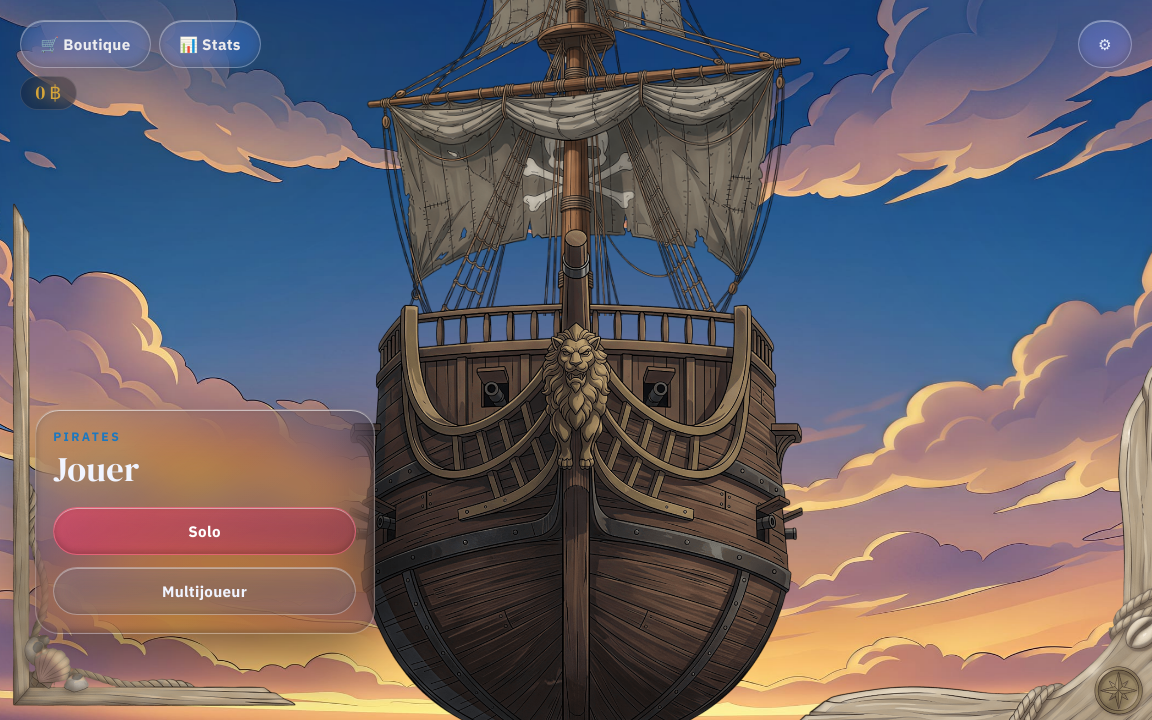
DashboardPage — engrenage (touches / déconnexion) › ouvre l'ecran des touches via le menu engrenage
Click the button named "Options" at (1105, 44), box left=1078, top=20, right=1132, bottom=68
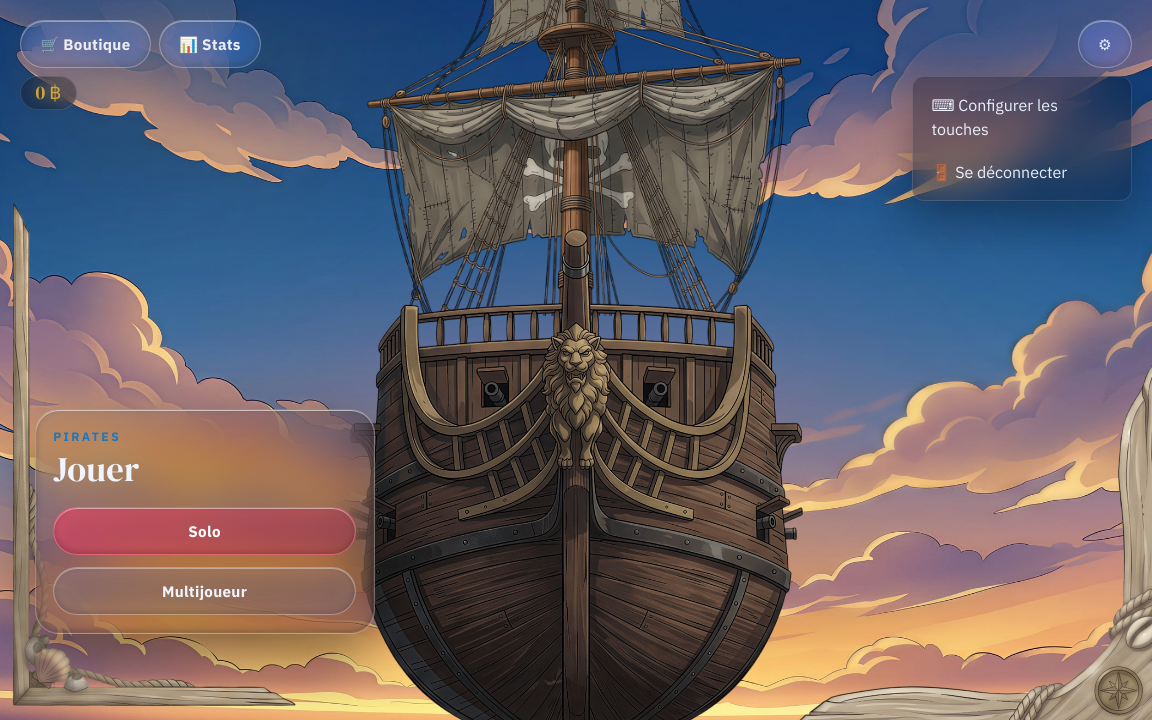
Click the menu item "⌨ Configurer les touches" at (1022, 117), box left=919, top=83, right=1125, bottom=151
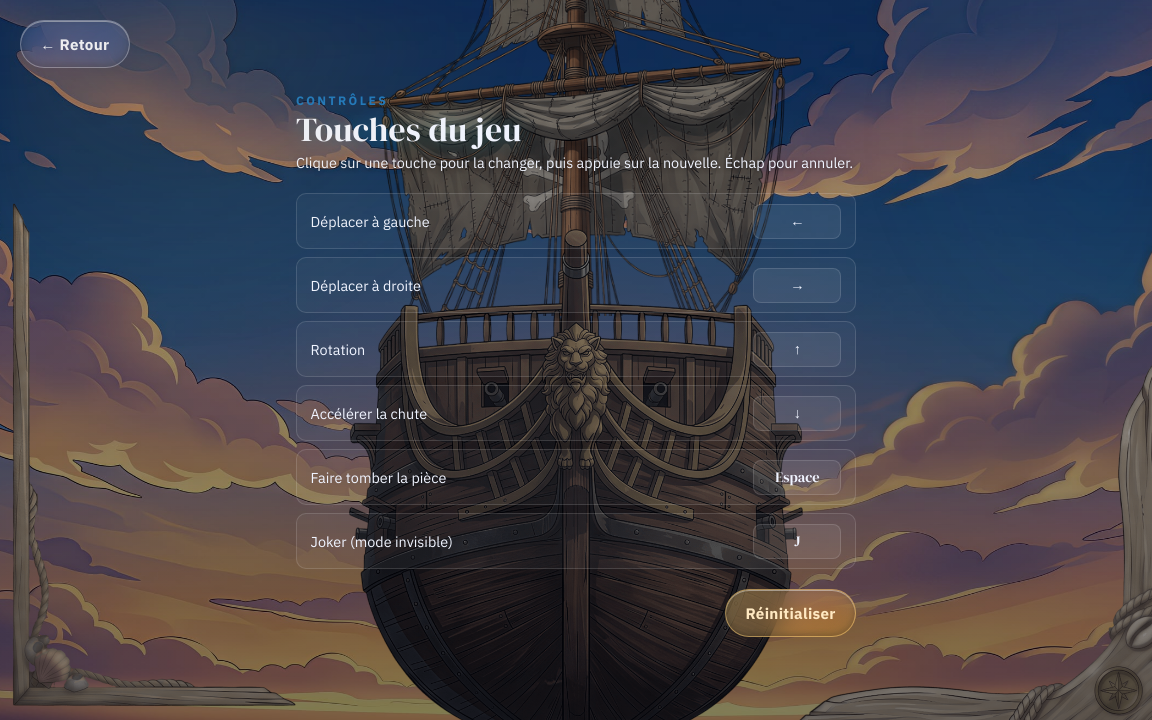
Result: the heading "Touches du jeu" is shown at left=296, top=106, right=522, bottom=152
Result: the button "← Retour" is shown at left=20, top=20, right=130, bottom=68
